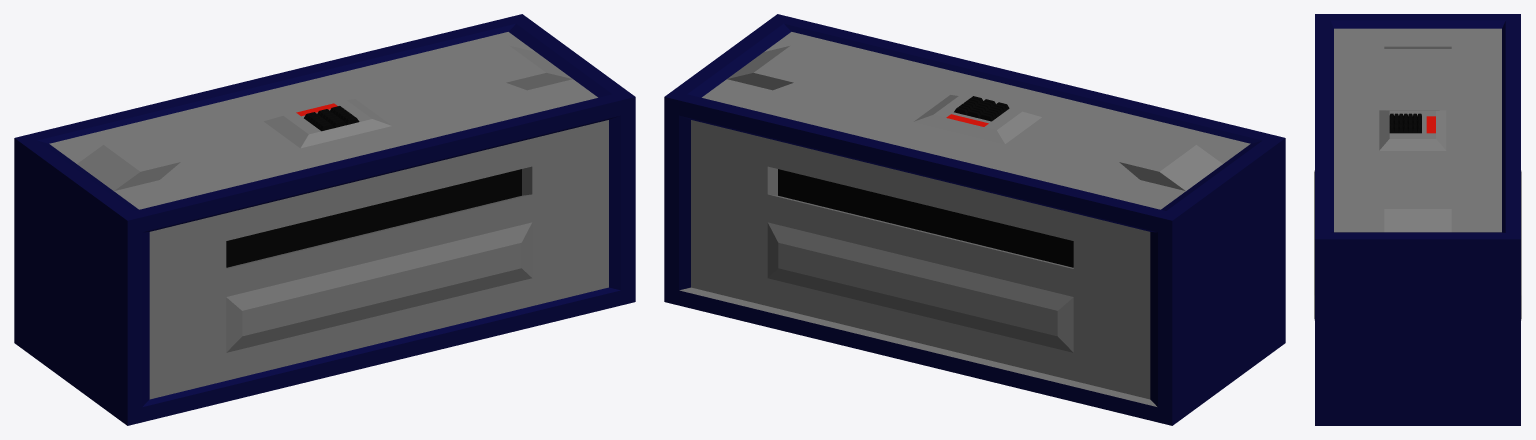
The picture shows the model from 3 angles, left to right: view 1: azimuth 30°, elevation 25°; view 2: azimuth 150°, elevation 25°; view 3: azimuth 270°, elevation 25°; orthographic projection. The views are drawn at different scales.
Visible parts, largest first — view 1: Cube; view 2: Cube; view 3: Cube.
Boxes of the visible parts, x1,y1,x2,y2 form: Cube: (14,14,635,425); Cube: (664,14,1285,425); Cube: (1314,14,1521,425).
Bounding box in the file's own units: 518 × 208 × 201.
